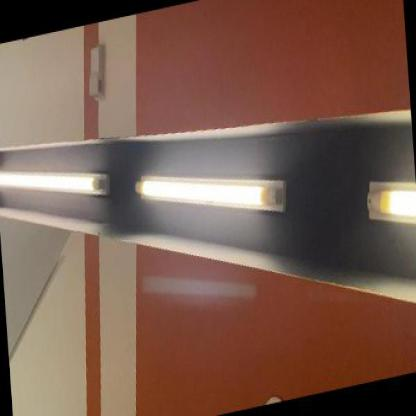light_on: (128, 130, 295, 257), (0, 140, 112, 232), (358, 155, 415, 245)
